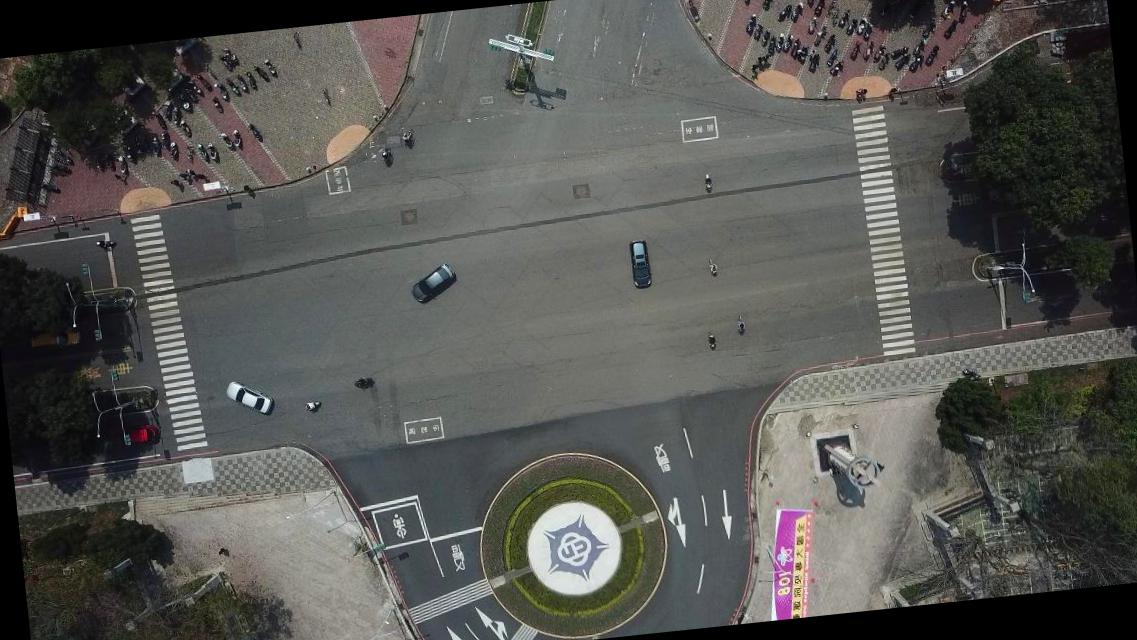vehicle: (408, 264, 458, 304), (225, 379, 272, 417), (27, 324, 81, 351), (629, 239, 653, 289), (114, 423, 158, 446)
